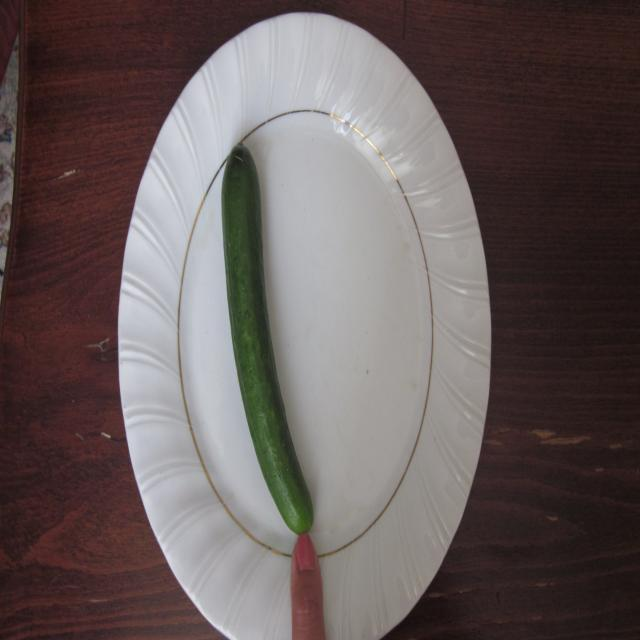Cucumber: (215, 136, 324, 530)
Finger: (282, 530, 336, 632)
